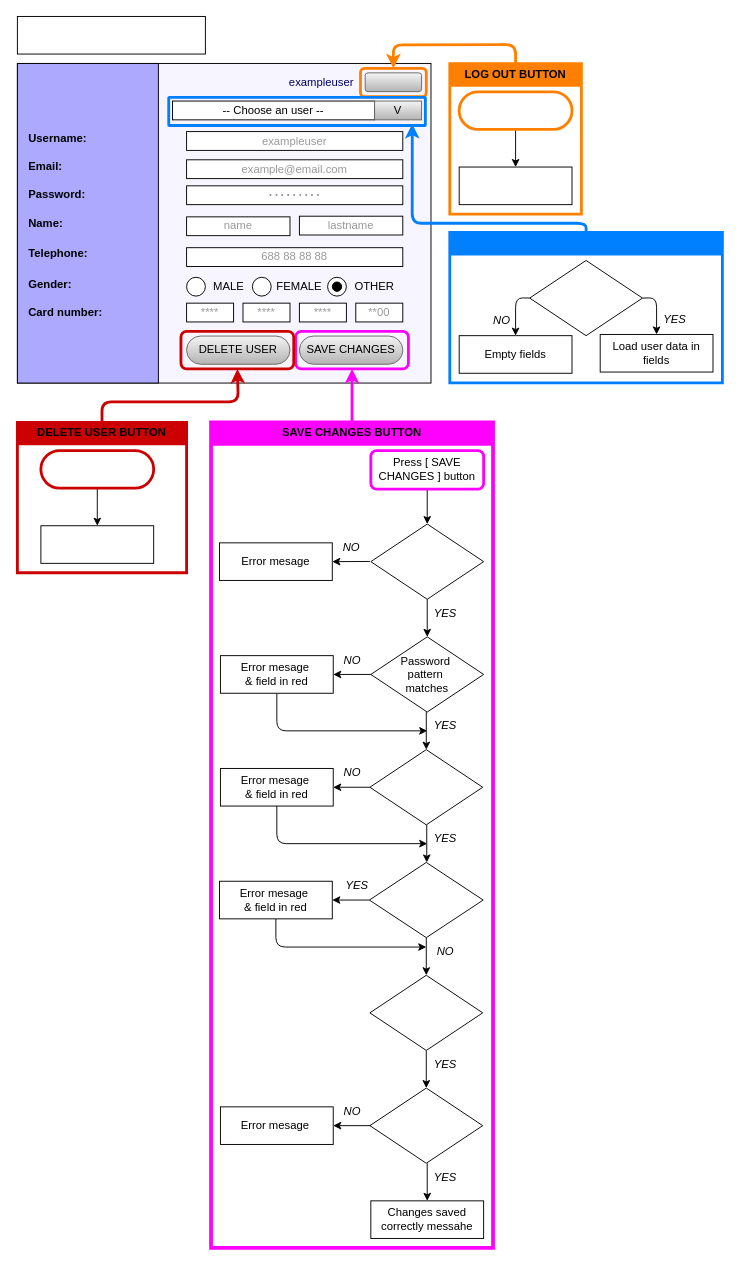
Image size: 740x1266. Some labels were removed from this diagram. The shapes that lost their labels are listed below. From the top down, each one's box as (x1, y1, x2, y2) in pixels, then its label:
(16, 16, 205, 54): AdminWindow
(364, 72, 422, 92): LOG OUT
(457, 90, 573, 130): Press [ LOG OUT ] button
(458, 166, 572, 205): Open LogInWindow
(529, 260, 642, 336): User is selected
(448, 231, 723, 384): COMBOBOX
(39, 449, 155, 489): Press [ DELETE USER ] button
(40, 525, 154, 563): Open VerifyUserWindow
(370, 523, 484, 599): User selected
(369, 749, 483, 825): Tel ephone patte rn matches
(368, 862, 483, 938): Any field empty
(369, 974, 483, 1050): All fields correct
(369, 1087, 483, 1163): Data changed
